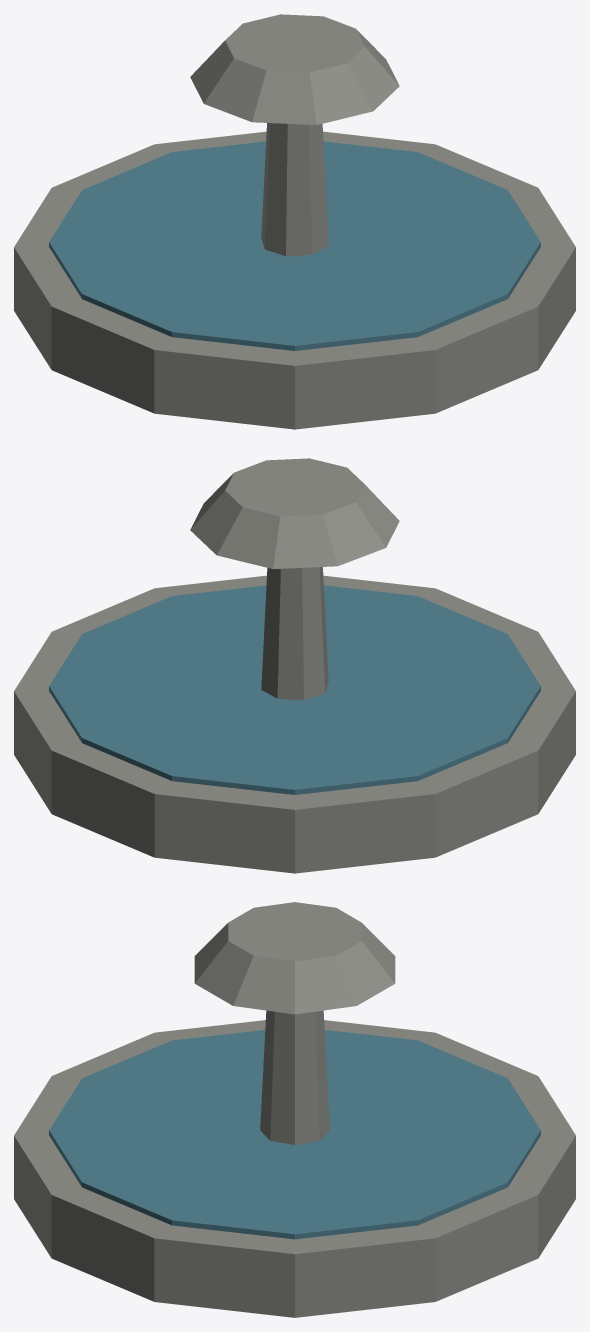
The model's file is fontana.obj.
3 views of the same model, one above another, from view 1: azimuth 30°, elevation 25°; view 2: azimuth 150°, elevation 25°; view 3: azimuth 270°, elevation 25° (orthographic).
Parts seen in each view (by area): view 1: parte_00, parte_01; view 2: parte_00, parte_01; view 3: parte_00, parte_01.
Boxes of the visible parts, x1,y1,x2,y2 form: parte_00: [14, 14, 575, 429]; parte_01: [49, 141, 540, 350]; parte_00: [14, 458, 575, 873]; parte_01: [49, 585, 540, 794]; parte_00: [14, 902, 575, 1317]; parte_01: [49, 1030, 540, 1239].
Size of the model in its own units: 4 by 2.1 by 4.
